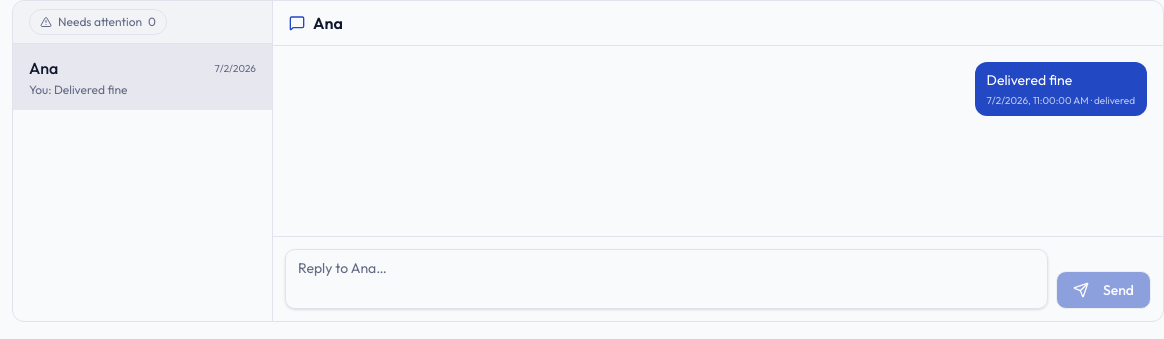
Test: SmsConversations › shows an empty note when the filter is on and nothing is flagged
The image size is (1164, 339).
Expected: the text with test id "filter-needs-attention-count" reads "0", [148,14,156,29]
Click the button with test id "filter-needs-attention": (98, 22) [29,9,167,35]
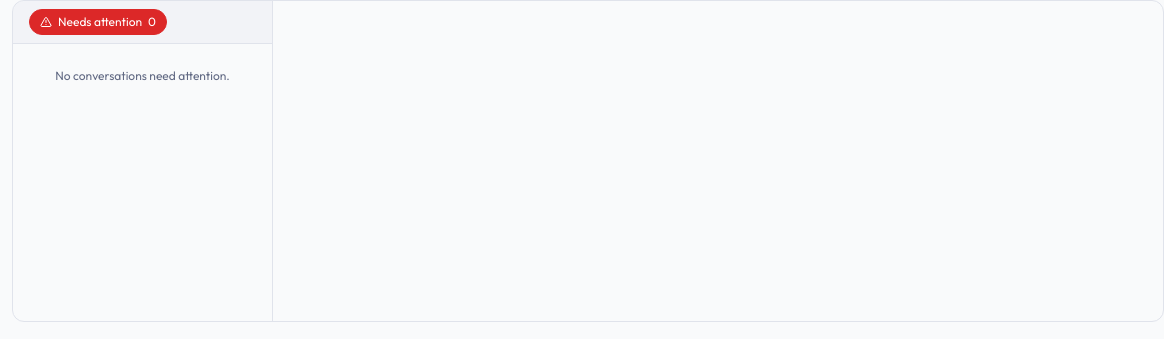
Expected: the text "No conversations need attention." is shown, [55,68,230,83]
